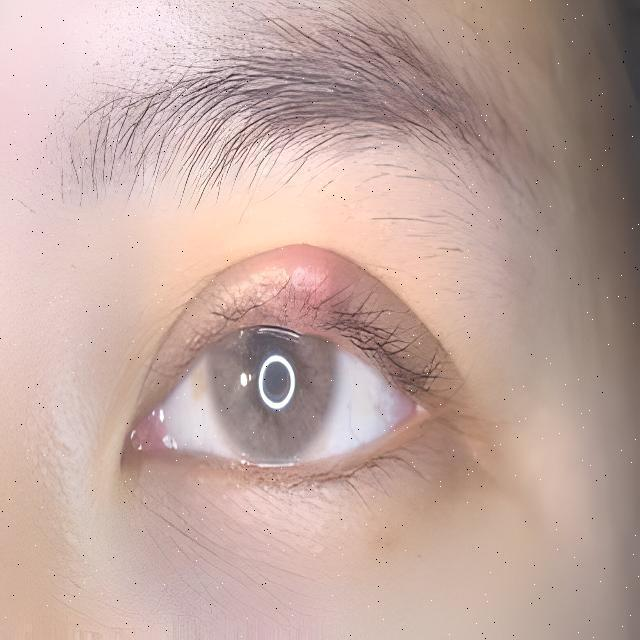Stye: (220, 205, 407, 375)
